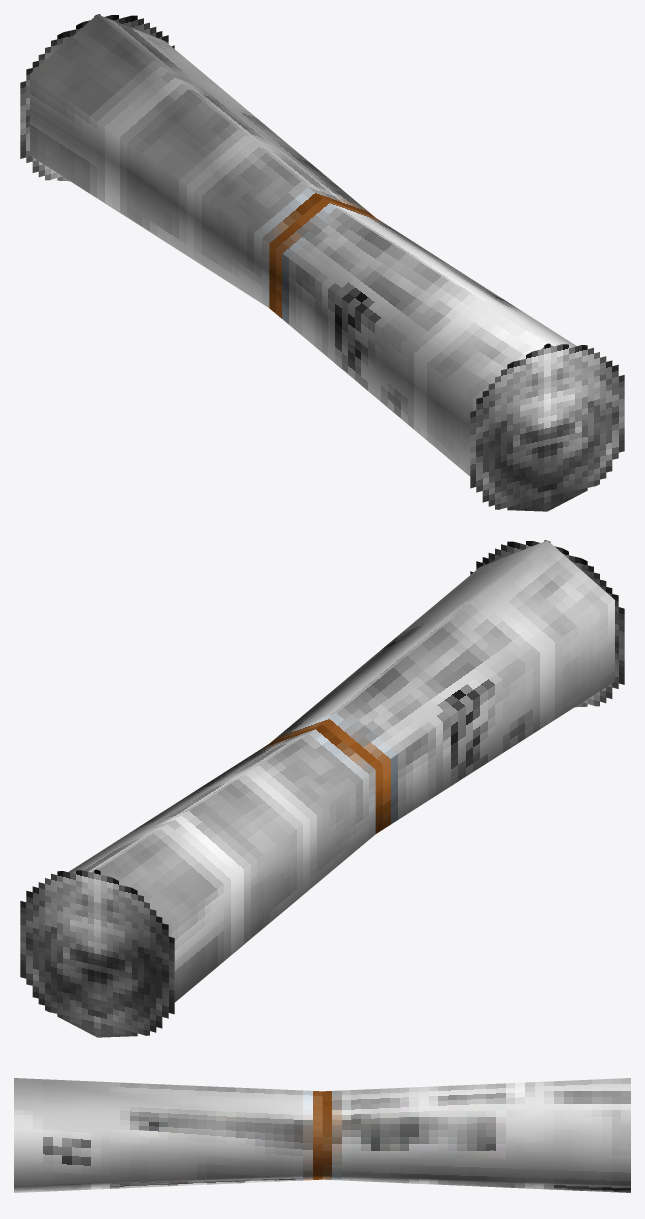
The model's file is Newspaper.FBX.
3 renders of one model, top to bottom at view 1: azimuth 30°, elevation 25°; view 2: azimuth 150°, elevation 25°; view 3: azimuth 270°, elevation 25°, orthographic. The views are drawn at different scales.
Visible parts, largest first — view 1: newspaper; view 2: newspaper; view 3: newspaper.
Part boxes in pixels (x1,y1,x2,y2): newspaper: (20, 14, 624, 511); newspaper: (20, 540, 624, 1037); newspaper: (14, 1078, 630, 1192).
Bounding box in the file's own units: 21.42 × 20.58 × 100.
